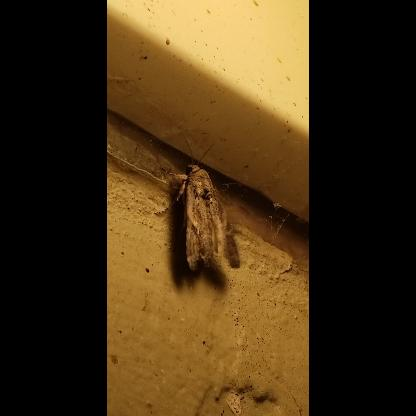Fall Armyworm Moth: (153, 125, 243, 273)
